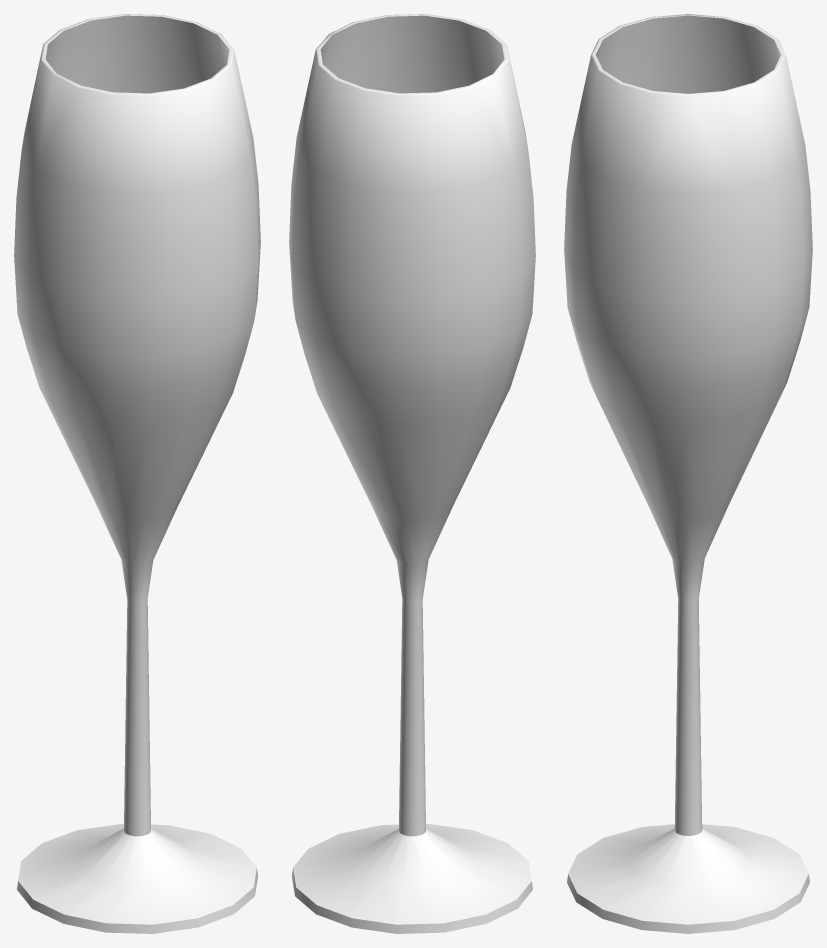
The model's file is Glasses01_1.FBX.
3 views of the same model, side by side, from view 1: azimuth 30°, elevation 25°; view 2: azimuth 150°, elevation 25°; view 3: azimuth 270°, elevation 25° (orthographic).
Parts seen in each view (by area): view 1: Glasses01_1; view 2: Glasses01_1; view 3: Glasses01_1.
Part boxes in pixels (x1,y1,x2,y2): Glasses01_1: (14,14,260,933); Glasses01_1: (289,14,535,933); Glasses01_1: (564,14,812,933).
Size of the model in its own units: 6.86 by 25.19 by 6.86.
